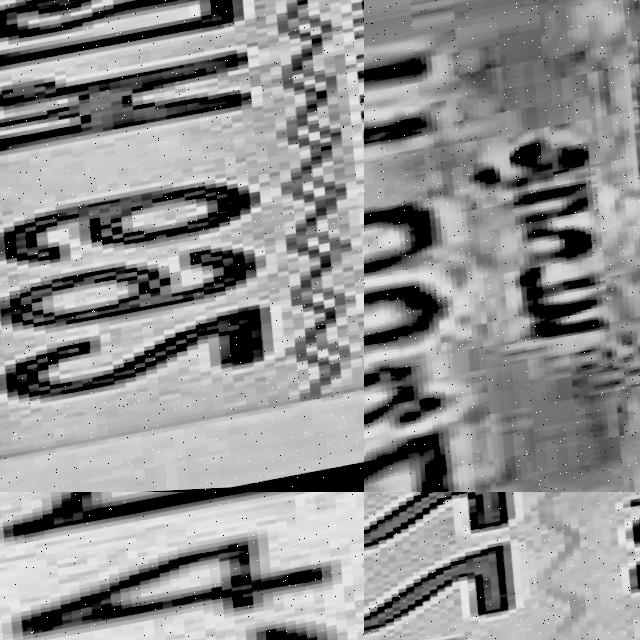license-plate: (0, 0, 364, 492), (364, 0, 640, 492), (0, 492, 364, 640), (364, 492, 640, 640)
